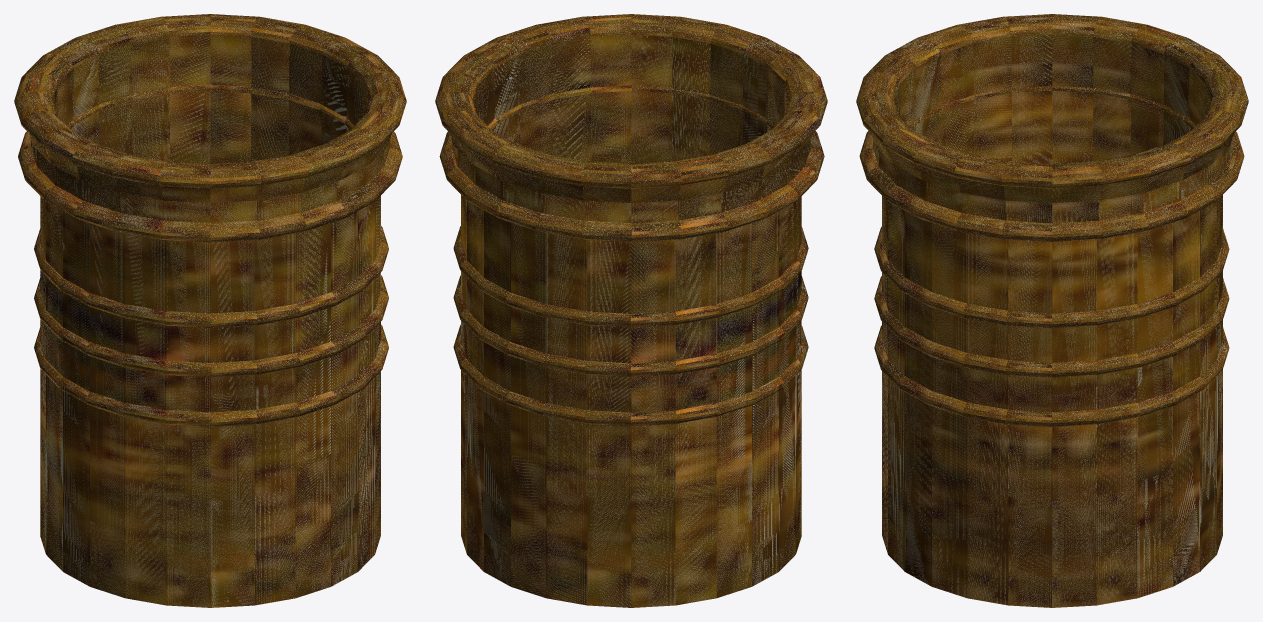
The picture shows the model from 3 angles, left to right: view 1: azimuth 30°, elevation 25°; view 2: azimuth 150°, elevation 25°; view 3: azimuth 270°, elevation 25°; orthographic projection.
Parts seen in each view (by area): view 1: mesh4_mesh4-geometry, mesh1.003_mesh1-geometry, mesh1.001_mesh1-geometry, mesh1.004_mesh1-geometry, mesh1.002_mesh1-geometry; view 2: mesh4_mesh4-geometry, mesh1.003_mesh1-geometry, mesh1.001_mesh1-geometry, mesh1.004_mesh1-geometry, mesh1.002_mesh1-geometry; view 3: mesh4_mesh4-geometry, mesh1.003_mesh1-geometry, mesh1.001_mesh1-geometry, mesh1.004_mesh1-geometry, mesh1.002_mesh1-geometry.
Boxes of the visible parts, bbox=[...] form: mesh4_mesh4-geometry: bbox=[14, 14, 406, 607]; mesh1.003_mesh1-geometry: bbox=[18, 84, 402, 242]; mesh1.001_mesh1-geometry: bbox=[34, 275, 388, 377]; mesh1.004_mesh1-geometry: bbox=[34, 324, 388, 426]; mesh1.002_mesh1-geometry: bbox=[34, 226, 388, 327]; mesh4_mesh4-geometry: bbox=[435, 14, 827, 607]; mesh1.003_mesh1-geometry: bbox=[439, 85, 824, 242]; mesh1.001_mesh1-geometry: bbox=[453, 275, 808, 376]; mesh1.004_mesh1-geometry: bbox=[453, 325, 808, 426]; mesh1.002_mesh1-geometry: bbox=[453, 226, 808, 327]; mesh4_mesh4-geometry: bbox=[856, 14, 1248, 607]; mesh1.003_mesh1-geometry: bbox=[859, 85, 1244, 241]; mesh1.001_mesh1-geometry: bbox=[874, 276, 1229, 377]; mesh1.004_mesh1-geometry: bbox=[874, 325, 1229, 426]; mesh1.002_mesh1-geometry: bbox=[874, 226, 1229, 328].
Size of the model in its own units: 0.5301 by 0.6617 by 0.5301.
